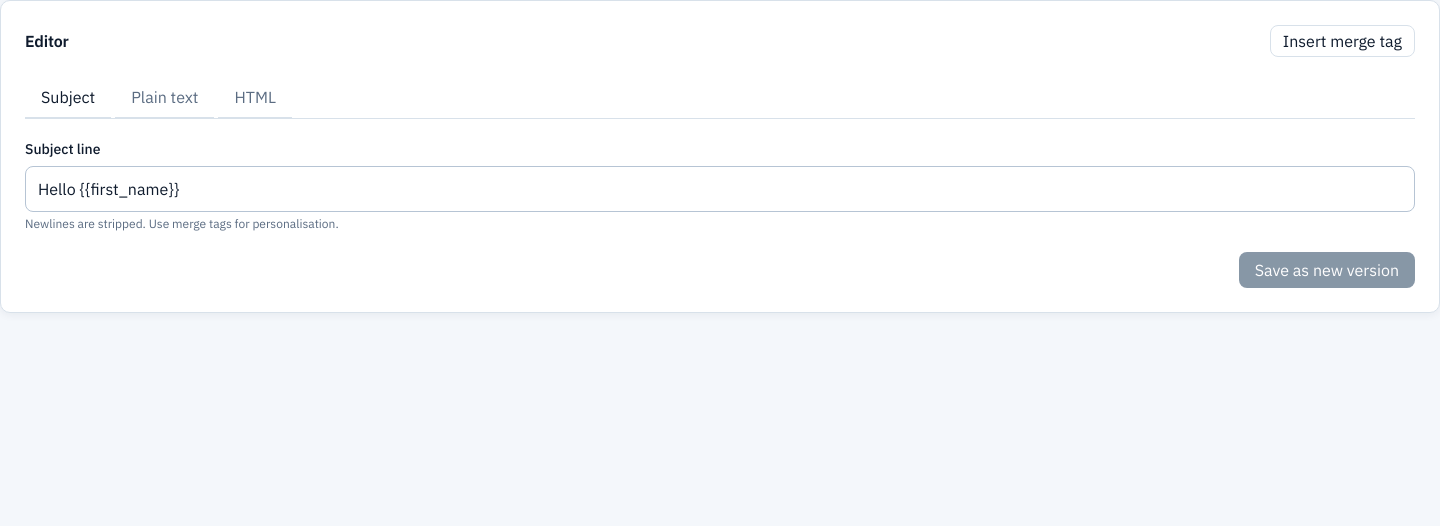
Test case: TemplateEditor › switching to plain text tab shows textarea
This screenshot has width=1440, height=526.
Click the tab "Plain text" at (165, 98), box [115,77,214,119]
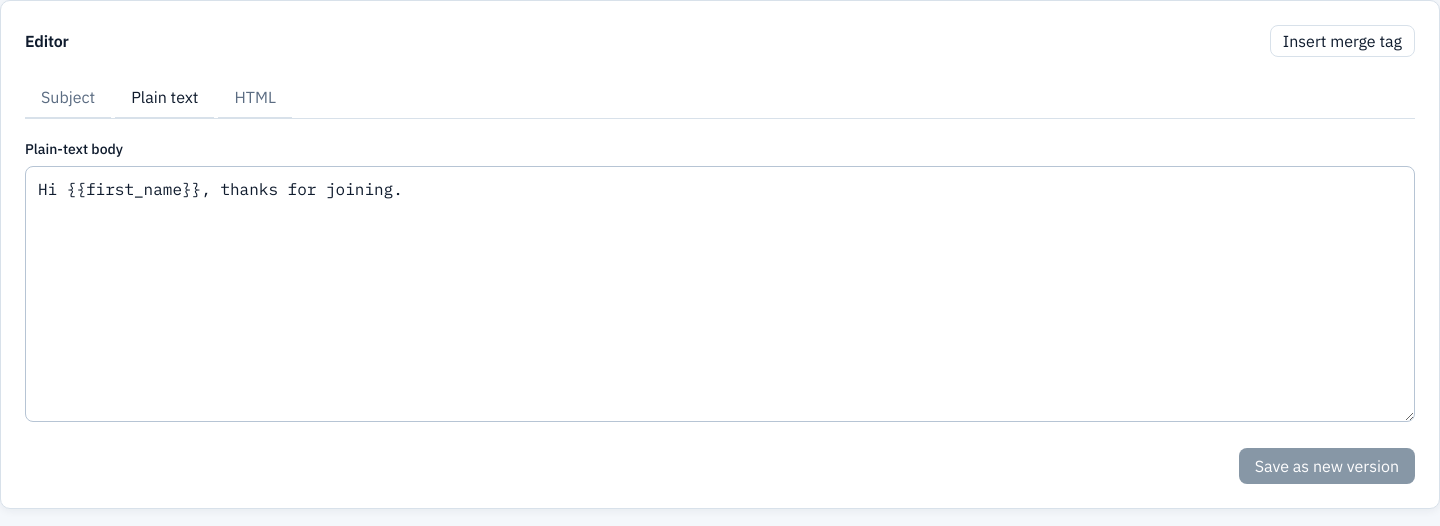
expect the text box labelled "Plain-text body" is shown: met, box [25,166,1415,422]
